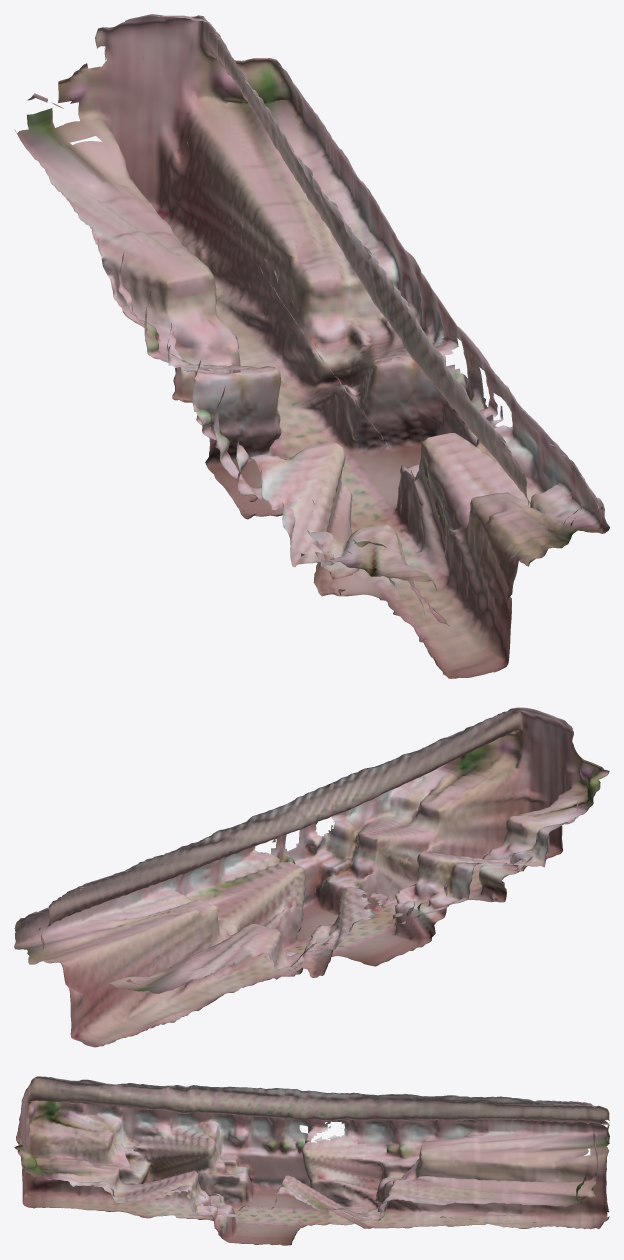
The model's file is pink-cherry-plane-1-0_collider.glb.
The picture shows the model from 3 angles, top to bottom: view 1: azimuth 30°, elevation 25°; view 2: azimuth 150°, elevation 25°; view 3: azimuth 270°, elevation 25°; orthographic projection. The views are drawn at different scales.
Parts seen in each view (by area): view 1: world; view 2: world; view 3: world.
Part boxes in pixels (left/top/right/bottom): world: left=14, top=14, right=609, bottom=678; world: left=14, top=707, right=609, bottom=1047; world: left=14, top=1076, right=609, bottom=1245.
Bounding box in the file's own units: 7.95 × 4.7 × 17.91.
